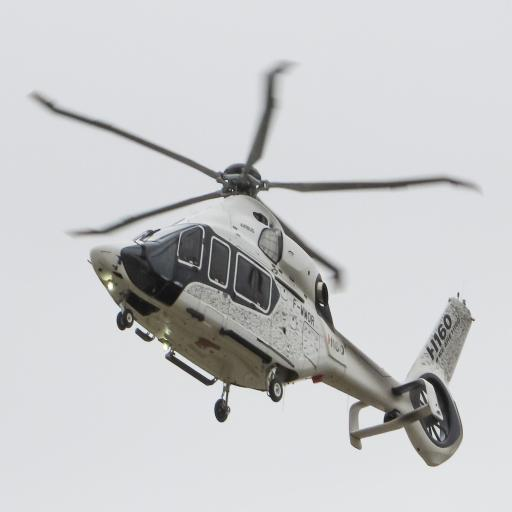helicopter: (28, 48, 490, 485)
